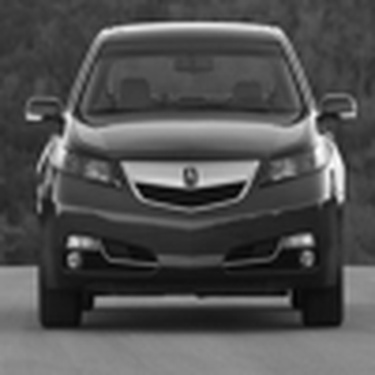car: (18, 9, 363, 340)
